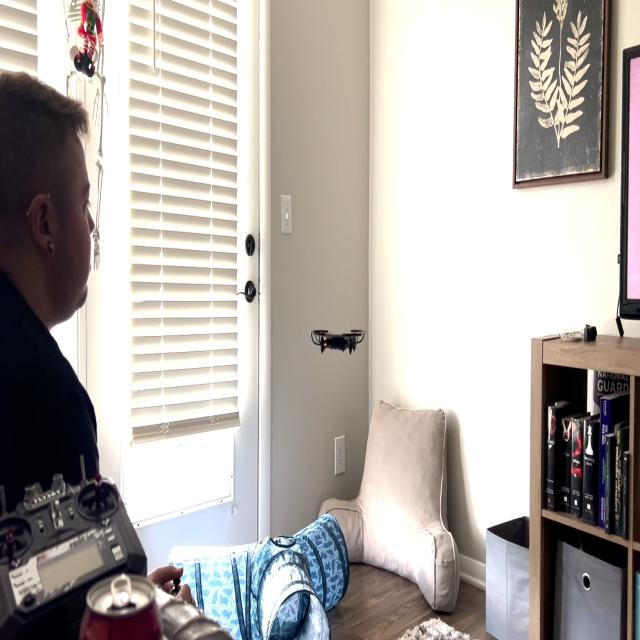drone: (307, 319, 370, 367)
